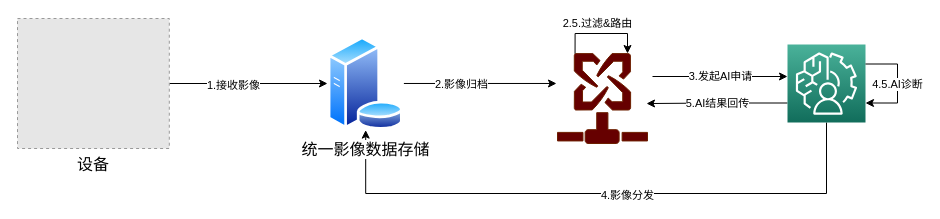
This 940x219 diagram has some shape labels left out. Grey dashed boxes stand in for pictures. Each missing label, with the centre of its shape:
AI应用: point 826,83
数据交换中心: point 602,98
